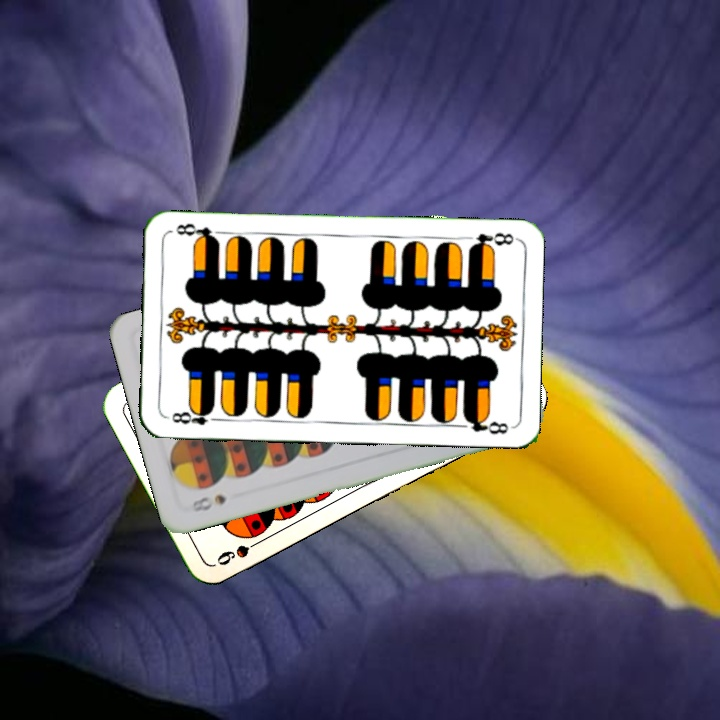E8: (168, 404, 223, 428), (464, 229, 518, 253)
S8: (186, 490, 229, 515)
S9: (212, 534, 267, 568)
